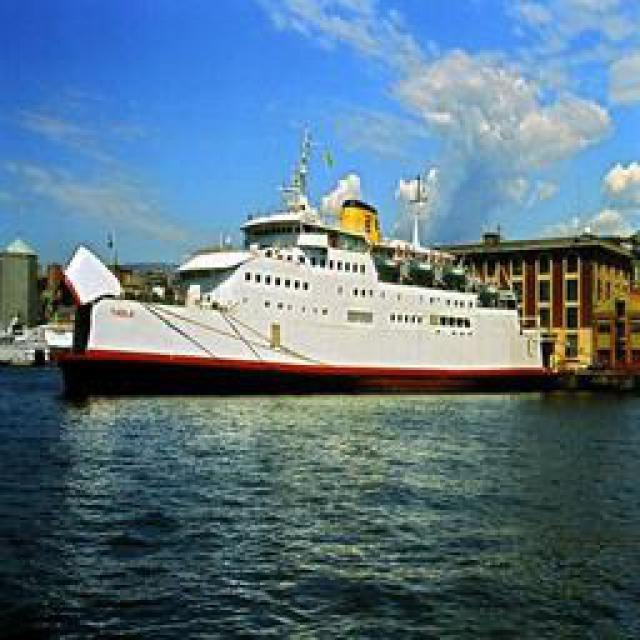Ship: (59, 127, 599, 390)
